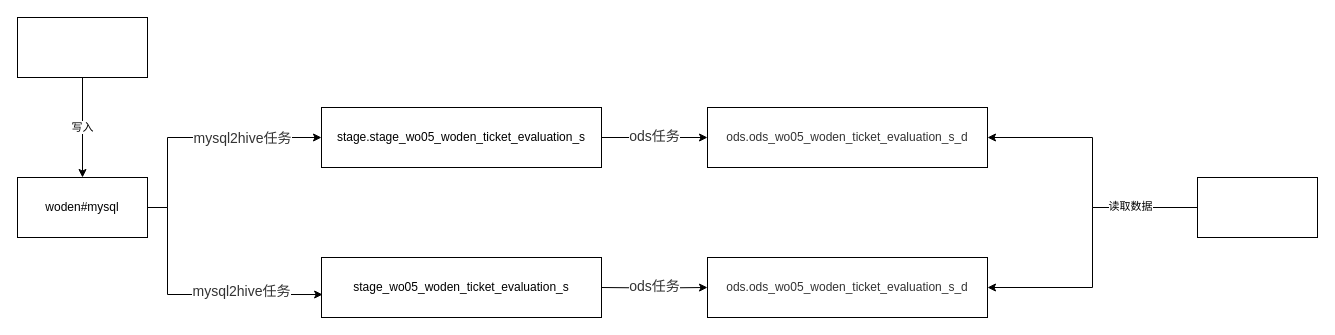
Some shapes in this 1335 by 335 pixel diagram are drawn without their labels. Here are the shapes that lost their labels. From the top down, the centre of each, then its label:
(x=82, y=47): 奥丁系统
(x=1257, y=207): 算法
